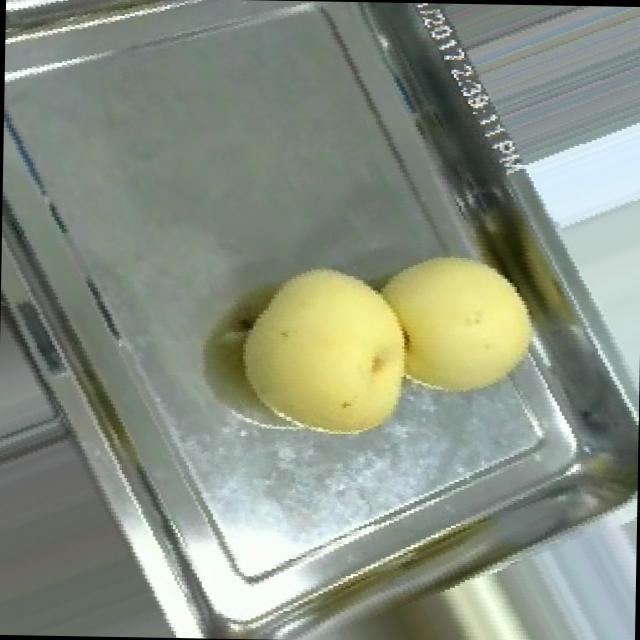Fruit: (208, 232, 438, 464), (353, 225, 557, 428)
